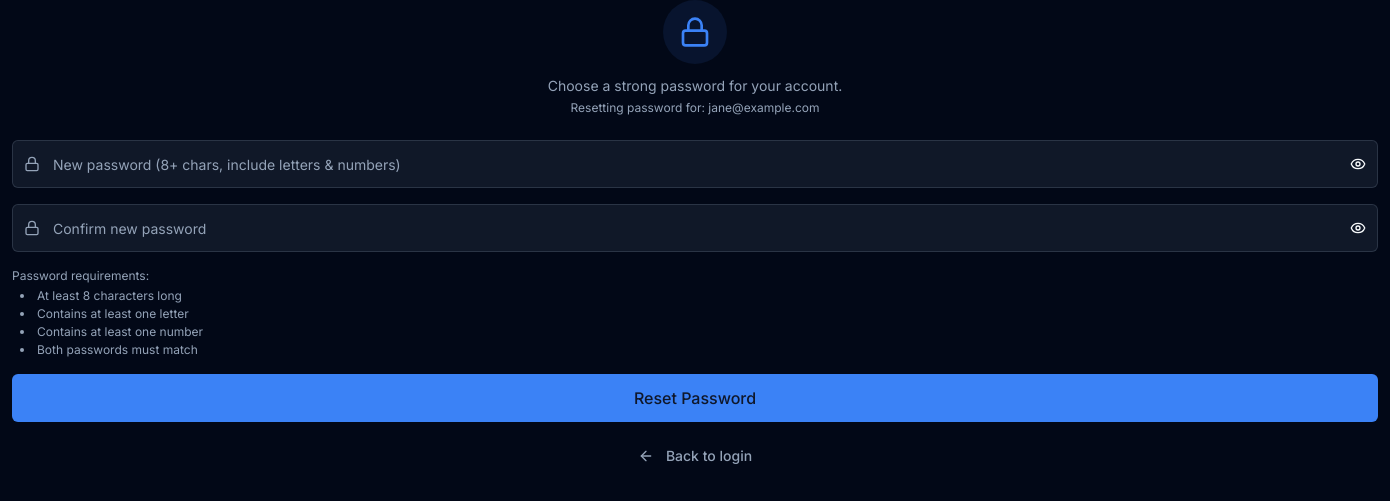
Test case: ResetPasswordForm › requires matching passwords
Step 1. Type "secret123" into the password field with placeholder "New password (8+ chars, include letters & numbers)" → (695, 164), box [12,140,1378,188]
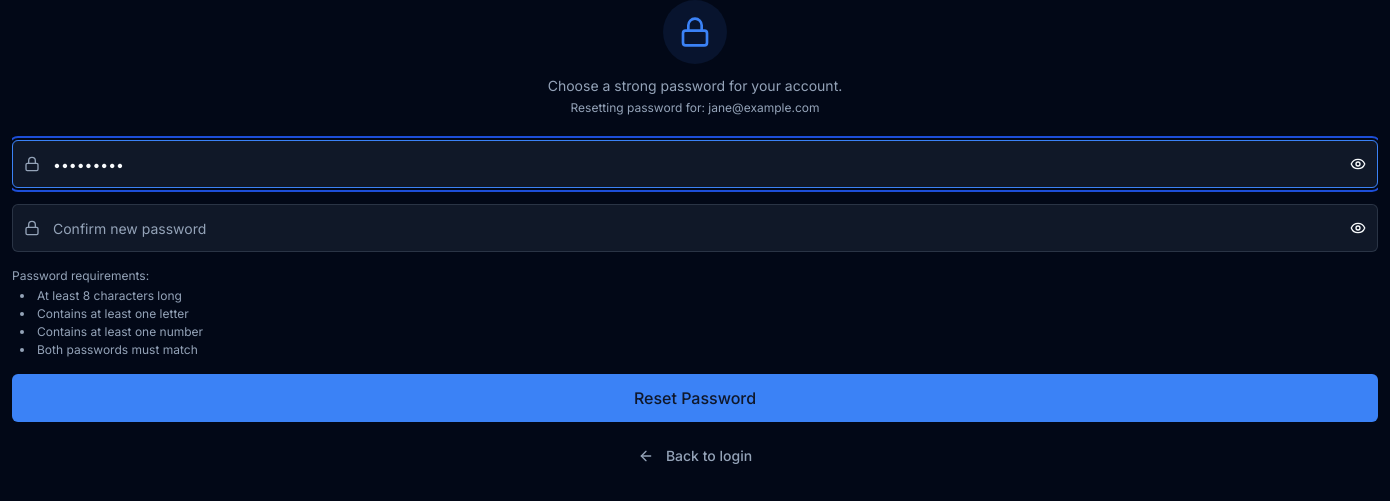
Step 2. Type "secret124" into the password field with placeholder "Confirm new password" → (695, 228), box [12,204,1378,252]
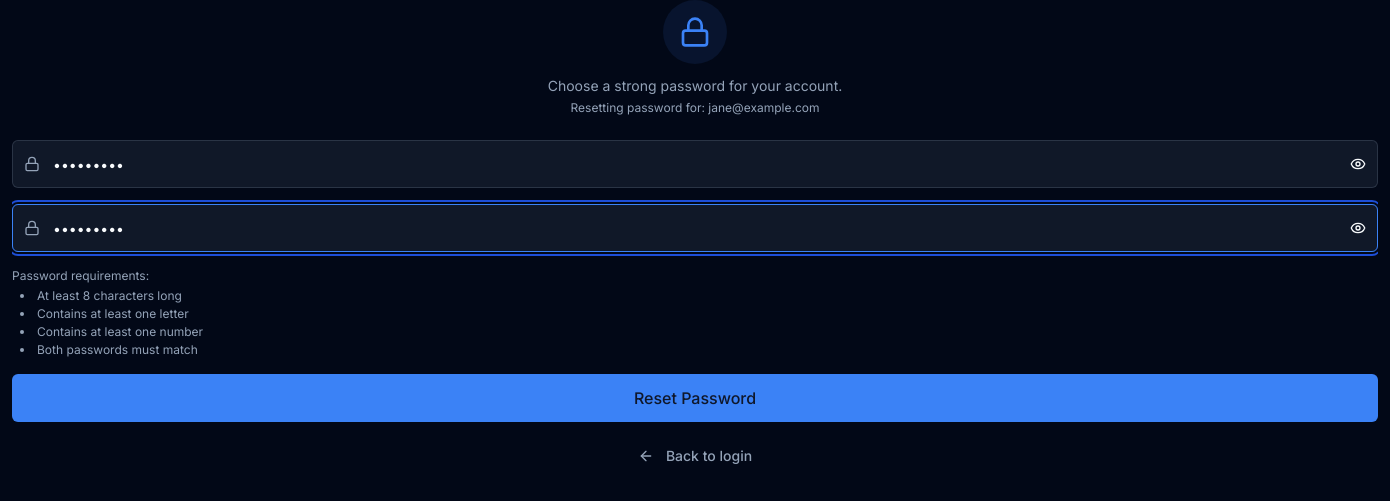
Step 3. Click the button "Reset Password" → (695, 398), box [12,374,1378,422]
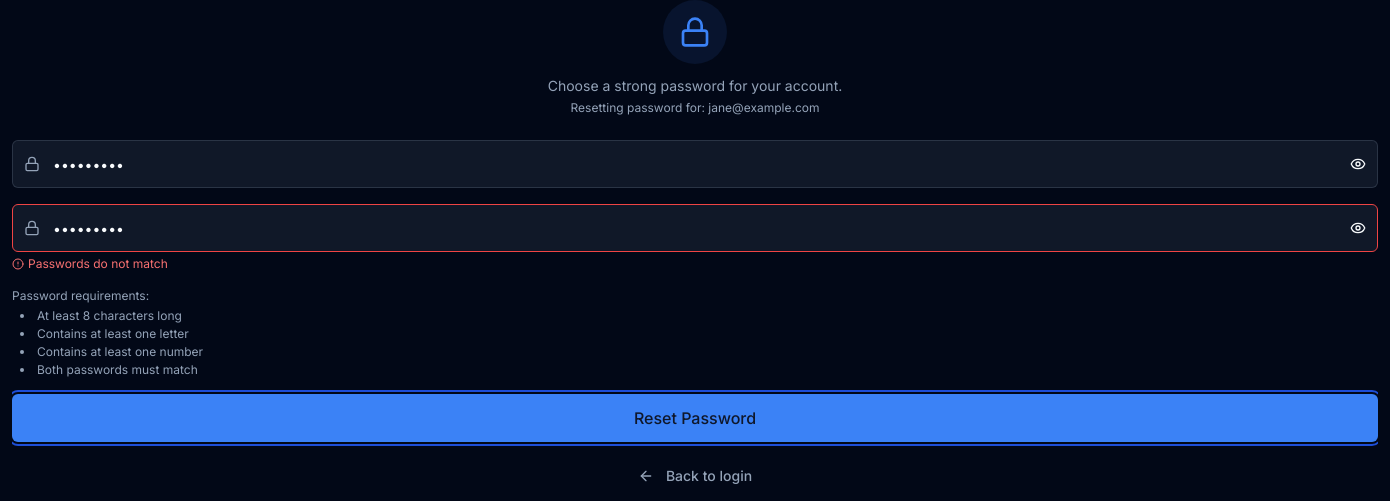
Result: the text "Passwords do not match" is shown at [28,256,168,272]
